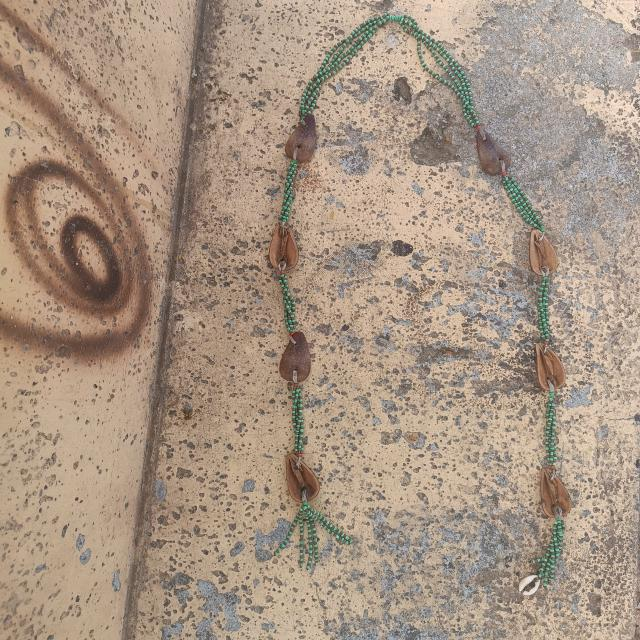facedown: (279, 108, 321, 166), (473, 121, 513, 180), (278, 325, 314, 385)
faceup: (279, 447, 323, 506), (537, 458, 574, 523), (533, 335, 569, 399), (524, 226, 562, 280), (267, 216, 300, 276)
